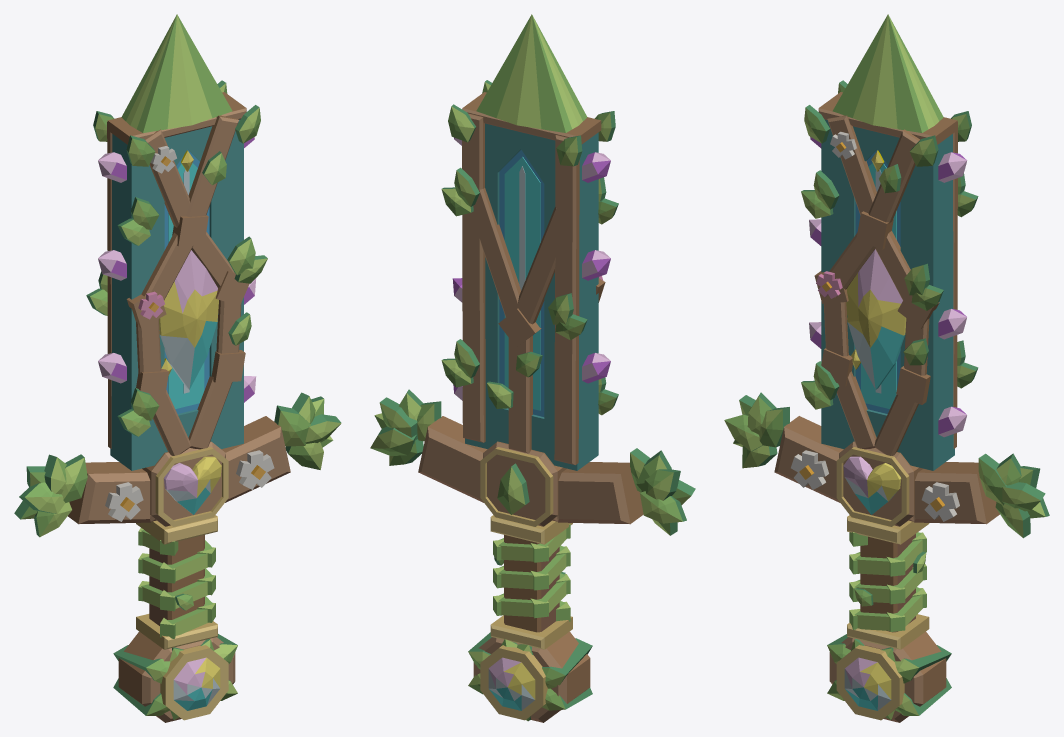
File: gladeheart_blade_roblox.glb
3 renders of one model, left to right at view 1: azimuth 30°, elevation 25°; view 2: azimuth 150°, elevation 25°; view 3: azimuth 330°, elevation 25°, orthographic.
Parts seen in each view (by area): view 1: Blade, Gems; view 2: Blade, Gems; view 3: Blade, Gems.
Boxes of the visible parts, left/top/right/bottom form: Blade: left=14, top=14, right=341, bottom=722; Gems: left=98, top=137, right=256, bottom=710; Blade: left=370, top=14, right=695, bottom=722; Gems: left=452, top=137, right=610, bottom=710; Blade: left=724, top=14, right=1049, bottom=722; Gems: left=809, top=136, right=967, bottom=710.
Size of the model in its own units: 0.6797 by 1.42 by 0.18.
